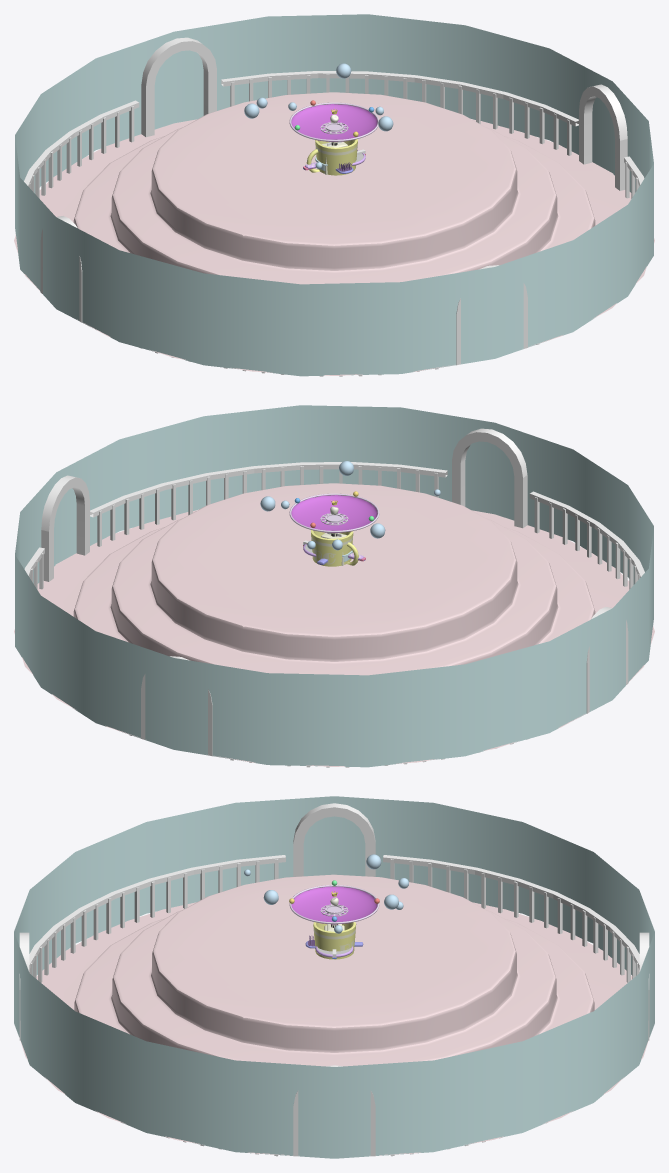
File: stage1_v2.fbx
3 views of the same model, one above another, from view 1: azimuth 30°, elevation 25°; view 2: azimuth 150°, elevation 25°; view 3: azimuth 270°, elevation 25° (orthographic).
Parts seen in each view (by area): view 1: pCylinder20, floor1, pCylinder42, pCylinder40, pCylinder39, stage, cup, pCylinder38; view 2: pCylinder20, floor1, pCylinder42, pCylinder38, pCylinder39, stage, cup, pCylinder40; view 3: pCylinder20, floor1, pCylinder42, stage, pCylinder41, cup, pCylinder39.
Boxes of the visible parts, x1,y1,x2,y2 form: pCylinder20: (15,14,653,376); floor1: (14,92,654,375); pCylinder42: (24,71,644,186); pCylinder40: (141,37,216,137); pCylinder39: (579,84,627,190); stage: (291,104,377,141); cup: (306,139,357,175); pCylinder38: (456,265,527,365); pCylinder20: (15,405,653,767); floor1: (14,483,654,766); pCylinder42: (24,462,644,577); pCylinder38: (452,428,527,528); pCylinder39: (41,475,89,581); stage: (291,495,377,532); cup: (311,530,358,566); pCylinder40: (141,656,212,756); pCylinder20: (14,796,654,1158); floor1: (20,874,648,1155); pCylinder42: (29,855,639,969); stage: (291,886,377,924); pCylinder41: (293,803,375,876); cup: (313,922,356,959); pCylinder39: (293,1065,375,1156).
Size of the model in its own units: 84.31 by 21.8 by 84.31.
23 materials, 11 textured.
